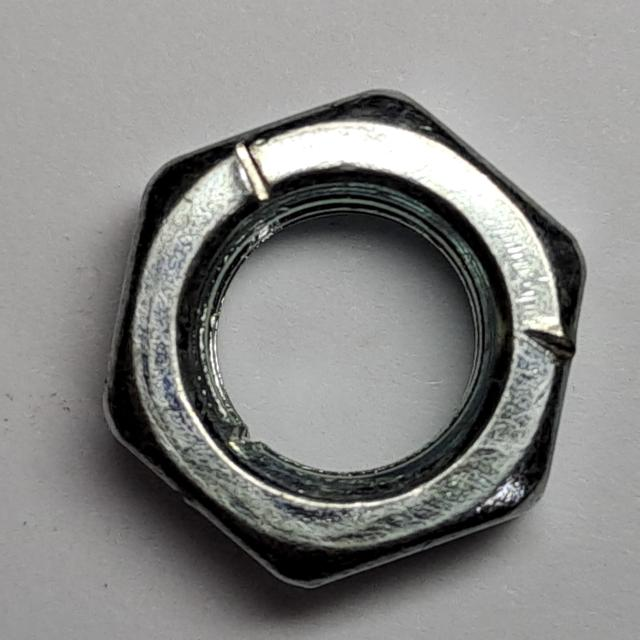Scratches: (90, 79, 602, 603)
